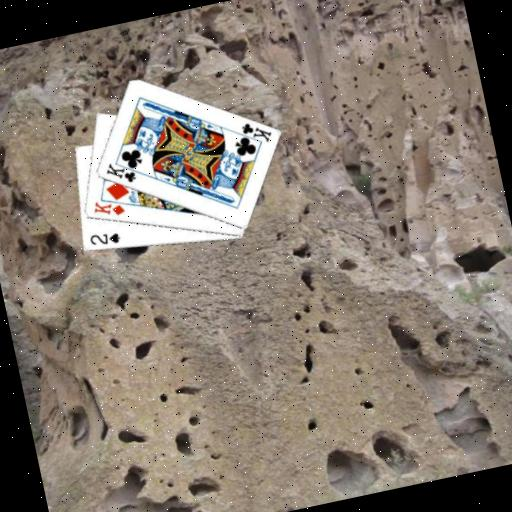2S: (85, 226, 123, 251)
KC: (230, 115, 274, 150), (100, 154, 143, 188)
KD: (88, 193, 127, 222)
